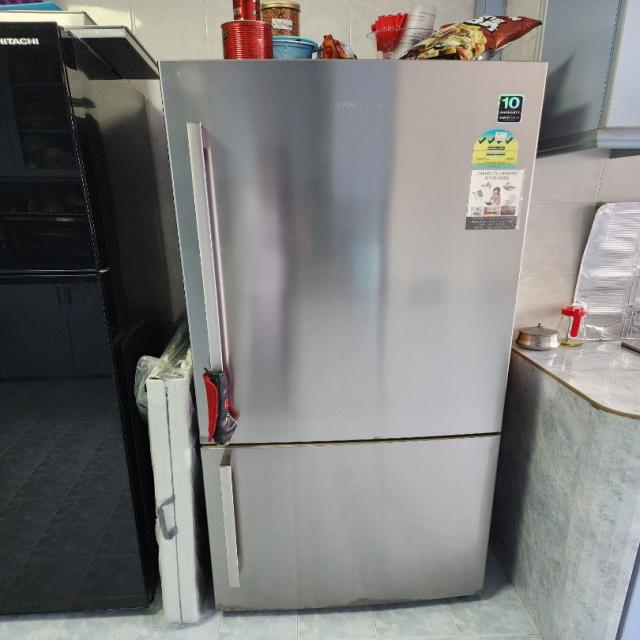refrigerator: (158, 58, 554, 613)
